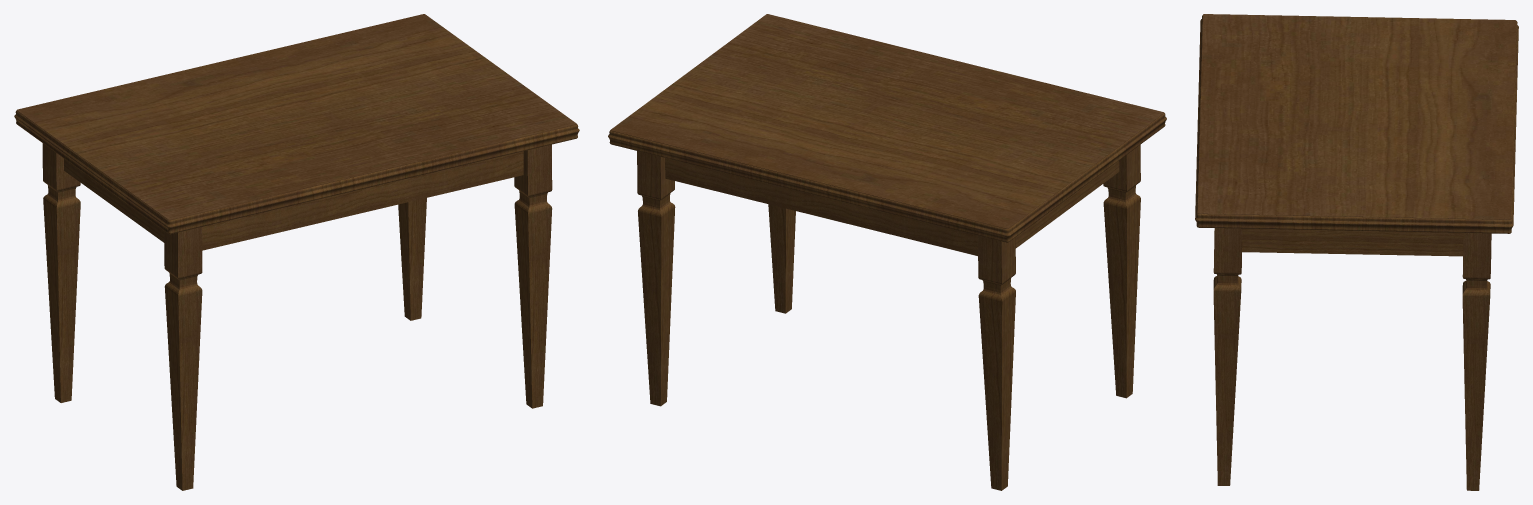
The model's file is table_.obj.
3 renders of one model, left to right at view 1: azimuth 30°, elevation 25°; view 2: azimuth 150°, elevation 25°; view 3: azimuth 270°, elevation 25°, orthographic.
Visible parts, largest first — view 1: Rectangle1_Rectangle1_tbl022_wood__Vra, Loft01_Loft01_tbl022_wood__Vra, Rectangle4_Rectangle4_tbl022_wood__Vra, Line01_Line01_tbl022_wood__Vra, Line04_Line04_tbl022_wood__Vra, Line02_Line02_tbl022_wood__Vra, Line03_Line03_tbl022_wood__Vra, Rectangle3_Rectangle3_tbl022_wood__Vra; view 2: Rectangle1_Rectangle1_tbl022_wood__Vra, Loft01_Loft01_tbl022_wood__Vra, Line02_Line02_tbl022_wood__Vra, Line03_Line03_tbl022_wood__Vra, Line01_Line01_tbl022_wood__Vra, Rectangle0_Rectangle0_tbl022_wood__Vra, Line04_Line04_tbl022_wood__Vra, Rectangle3_Rectangle3_tbl022_wood__Vra; view 3: Rectangle1_Rectangle1_tbl022_wood__Vra, Line03_Line03_tbl022_wood__Vra, Line04_Line04_tbl022_wood__Vra, Loft01_Loft01_tbl022_wood__Vra, Rectangle2_Rectangle2_tbl022_wood__Vra.
Boxes of the visible parts, x1,y1,x2,y2 form: Rectangle1_Rectangle1_tbl022_wood__Vra: (17, 14, 576, 234); Loft01_Loft01_tbl022_wood__Vra: (14, 110, 579, 233); Rectangle4_Rectangle4_tbl022_wood__Vra: (202, 151, 523, 250); Line01_Line01_tbl022_wood__Vra: (164, 227, 202, 490); Line04_Line04_tbl022_wood__Vra: (514, 144, 552, 408); Line02_Line02_tbl022_wood__Vra: (42, 143, 80, 402); Line03_Line03_tbl022_wood__Vra: (398, 198, 426, 320); Rectangle3_Rectangle3_tbl022_wood__Vra: (64, 158, 164, 242); Rectangle1_Rectangle1_tbl022_wood__Vra: (610, 14, 1164, 242); Loft01_Loft01_tbl022_wood__Vra: (608, 113, 1166, 242); Line02_Line02_tbl022_wood__Vra: (978, 235, 1015, 490); Line03_Line03_tbl022_wood__Vra: (637, 151, 675, 406); Line01_Line01_tbl022_wood__Vra: (1103, 145, 1140, 398); Rectangle0_Rectangle0_tbl022_wood__Vra: (665, 158, 977, 255); Line04_Line04_tbl022_wood__Vra: (768, 204, 795, 313); Rectangle3_Rectangle3_tbl022_wood__Vra: (1015, 161, 1119, 248); Rectangle1_Rectangle1_tbl022_wood__Vra: (1197, 14, 1516, 233); Line03_Line03_tbl022_wood__Vra: (1462, 233, 1491, 490); Line04_Line04_tbl022_wood__Vra: (1213, 228, 1242, 485); Loft01_Loft01_tbl022_wood__Vra: (1195, 15, 1518, 233); Rectangle2_Rectangle2_tbl022_wood__Vra: (1242, 228, 1463, 256).
Bounding box in the file's own units: 40 × 26.65 × 27.05.
Materials: 1 (1 with a texture image).
